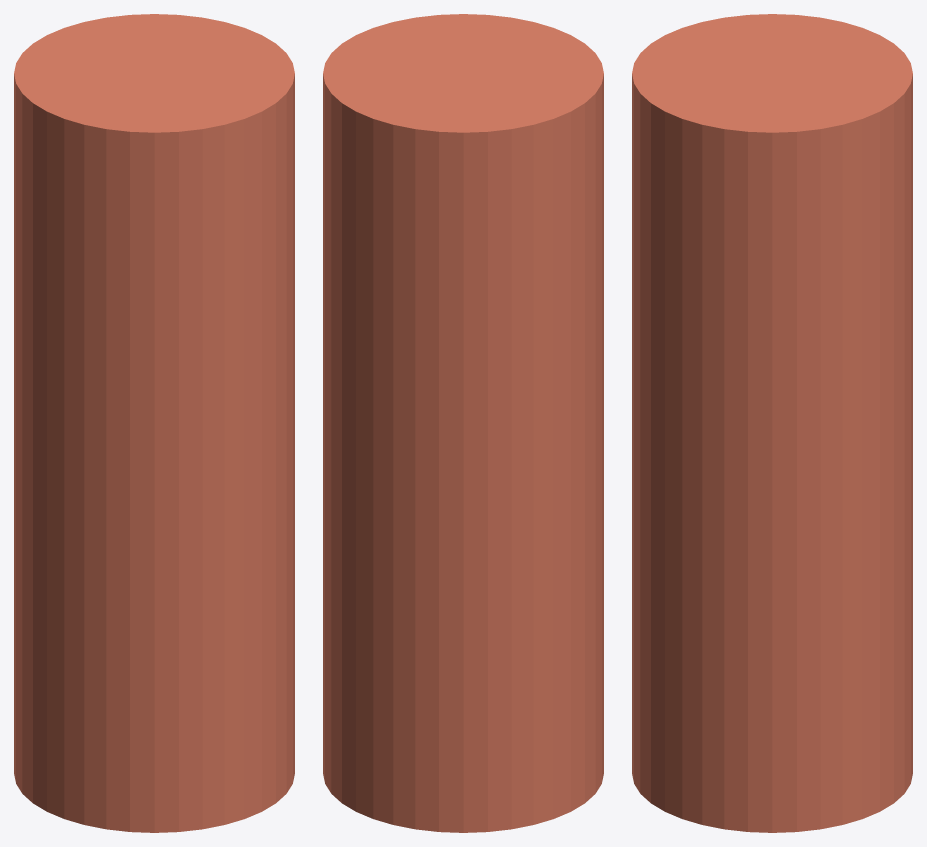
Rendered from monopod_leg.dae.
The picture shows the model from 3 angles, left to right: view 1: azimuth 30°, elevation 25°; view 2: azimuth 150°, elevation 25°; view 3: azimuth 270°, elevation 25°; orthographic projection.
Visible parts, largest first — view 1: Cylinder; view 2: Cylinder; view 3: Cylinder.
Part boxes in pixels (x1=…): Cylinder: x1=14, y1=14, x2=294, y2=832; Cylinder: x1=323, y1=14, x2=603, y2=832; Cylinder: x1=632, y1=14, x2=912, y2=832.
Bounding box in the file's own units: 0.036 × 0.036 × 0.099.
